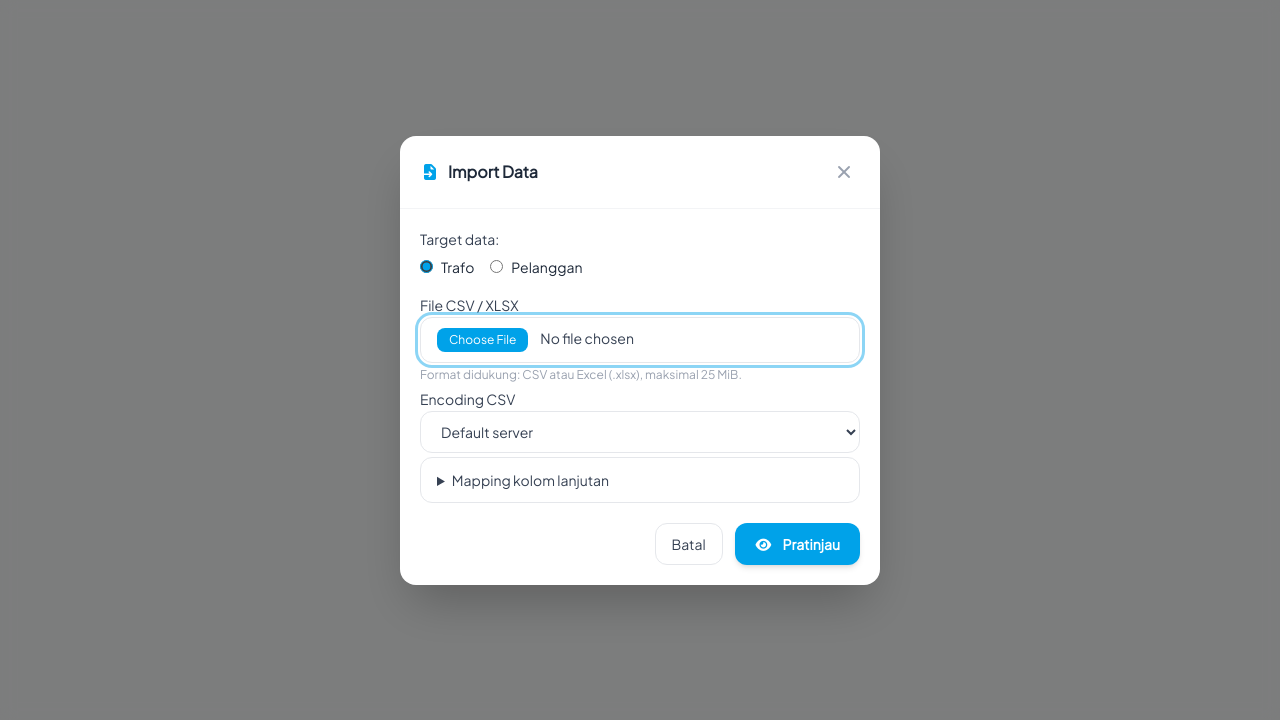
Kontrak import preview dan commit › membuang file ketika target import berubah agar file lama tidak dipakai untuk dataset lain
Earlier steps of the test are not shown.
Expected: the button "Pratinjau" is enabled, [735, 522, 860, 564]
Click the radio button labelled "Pelanggan" at {"x": 497, "y": 266}, box [490, 260, 503, 273]
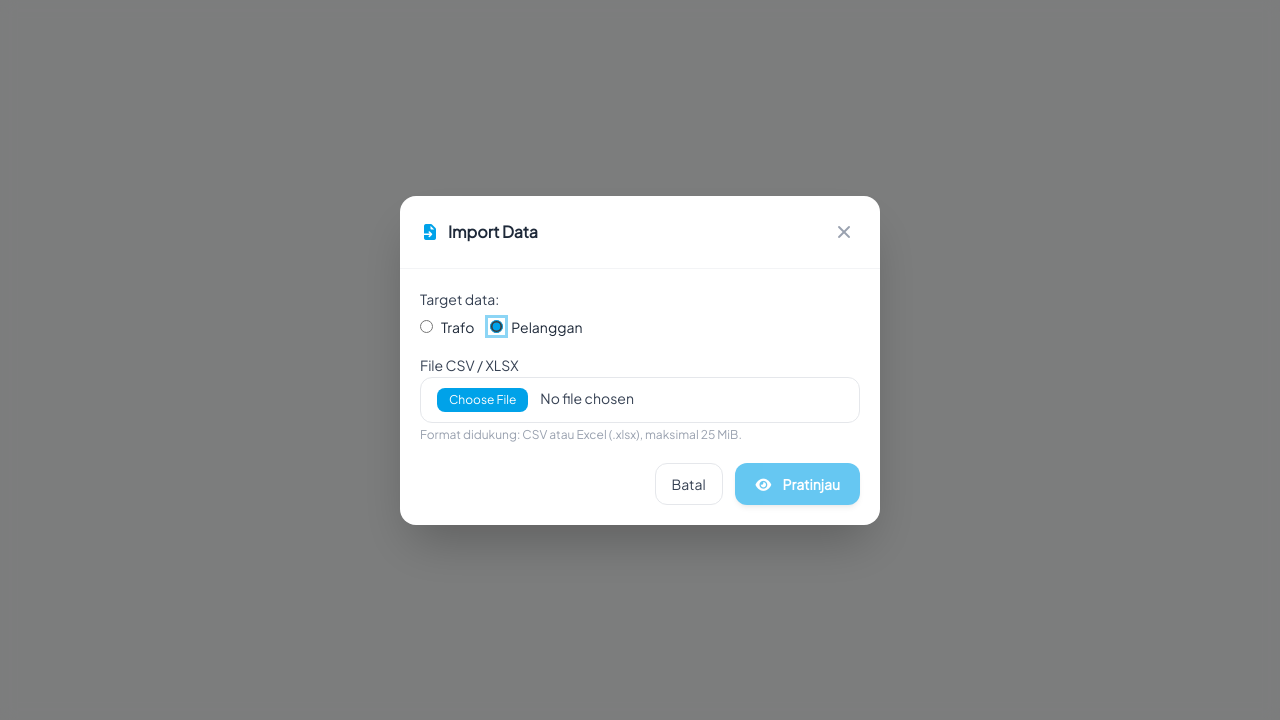
Expected: the button "Pratinjau" is disabled, [735, 462, 860, 504]
